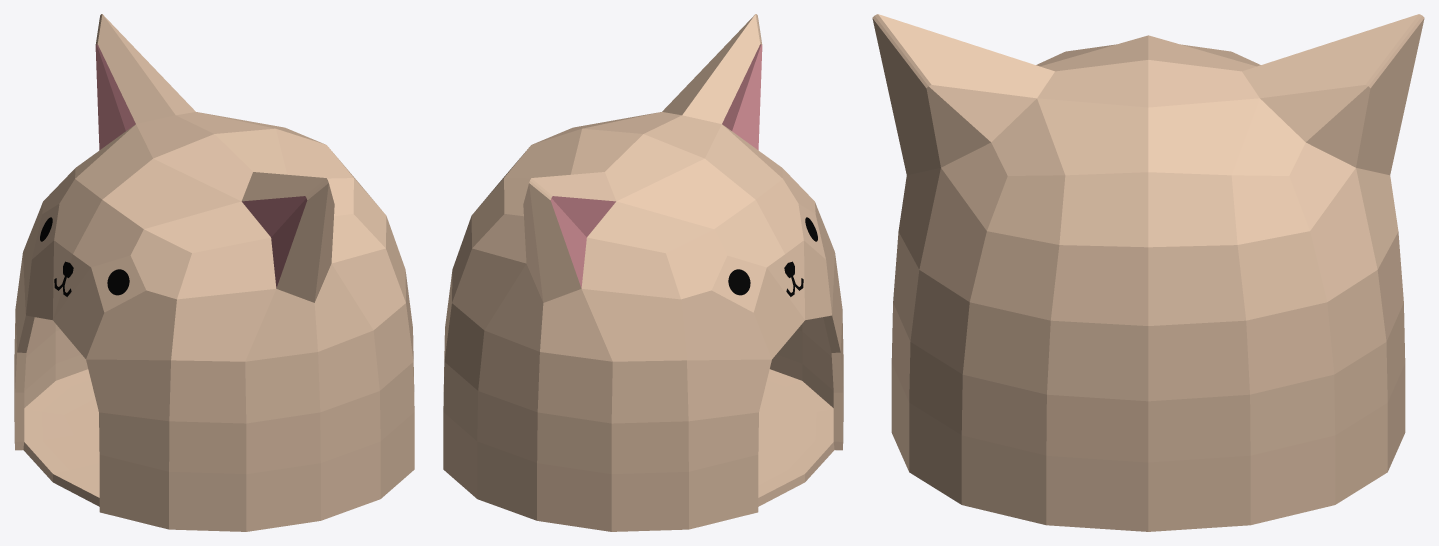
File: cat_hut.fbx
3 views of the same model, side by side, from view 1: azimuth 30°, elevation 25°; view 2: azimuth 150°, elevation 25°; view 3: azimuth 270°, elevation 25° (orthographic). The views are drawn at different scales.
Parts seen in each view (by area): view 1: Plane; view 2: Plane; view 3: Plane.
Part boxes in pixels (x1,y1,x2,y2): Plane: (14, 14, 414, 531); Plane: (443, 14, 843, 531); Plane: (872, 14, 1424, 531).
Bounding box in the file's own units: 164 × 165 × 197.
